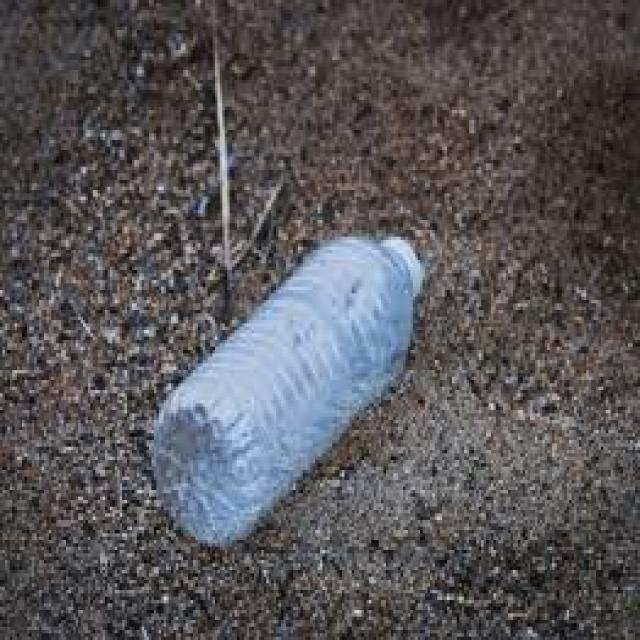bottle: (153, 236, 421, 546)
